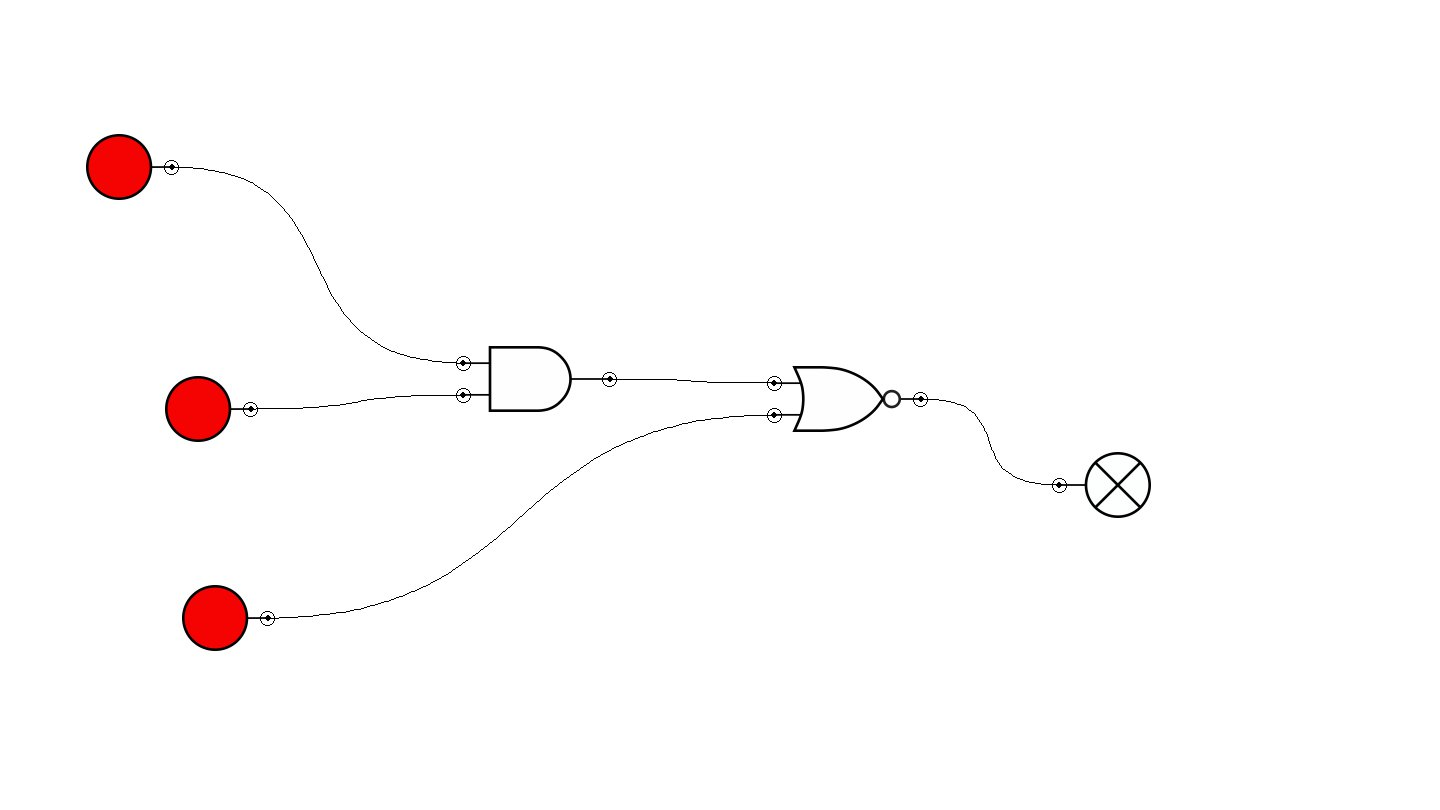and: (456, 346, 617, 412)
bulb: (1052, 452, 1151, 518)
nor: (767, 366, 928, 432)
switch_False: (86, 134, 179, 200), (165, 376, 258, 442), (182, 585, 275, 651)
